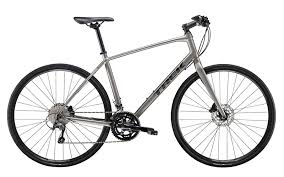bicycle: (3, 10, 279, 170)
